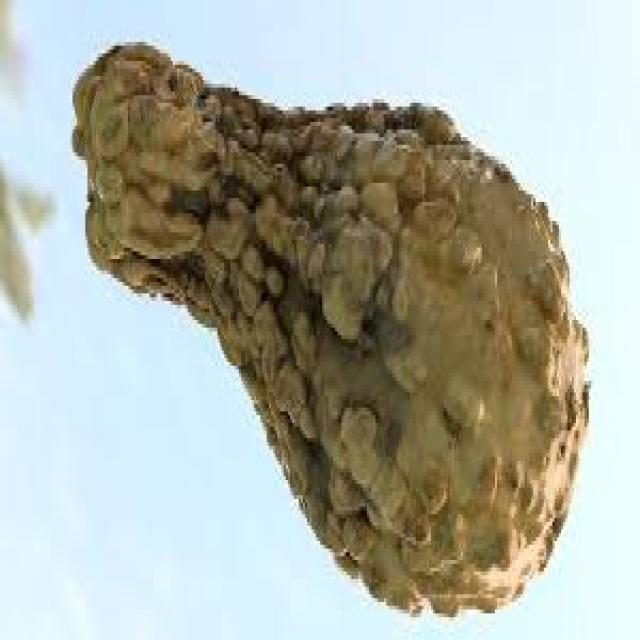organic waste: (68, 34, 591, 614)
